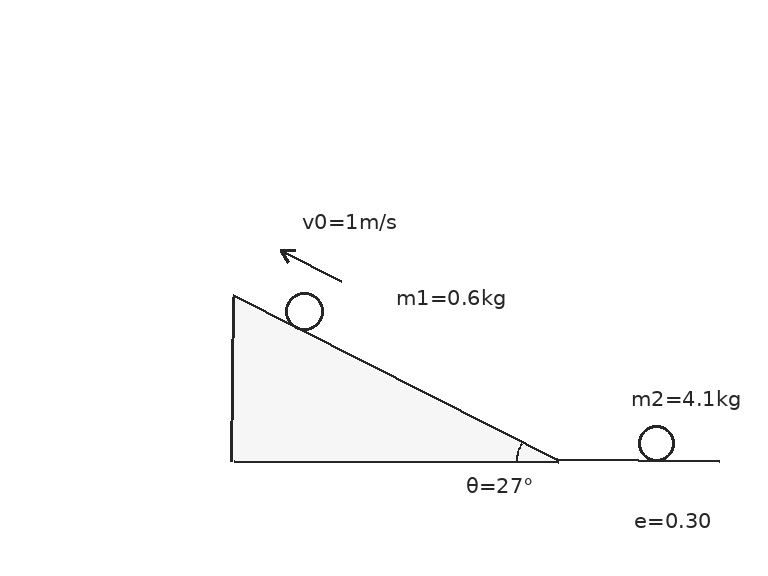ball: (283, 290, 325, 332), (636, 423, 676, 463)
ramp: (231, 294, 559, 463)
